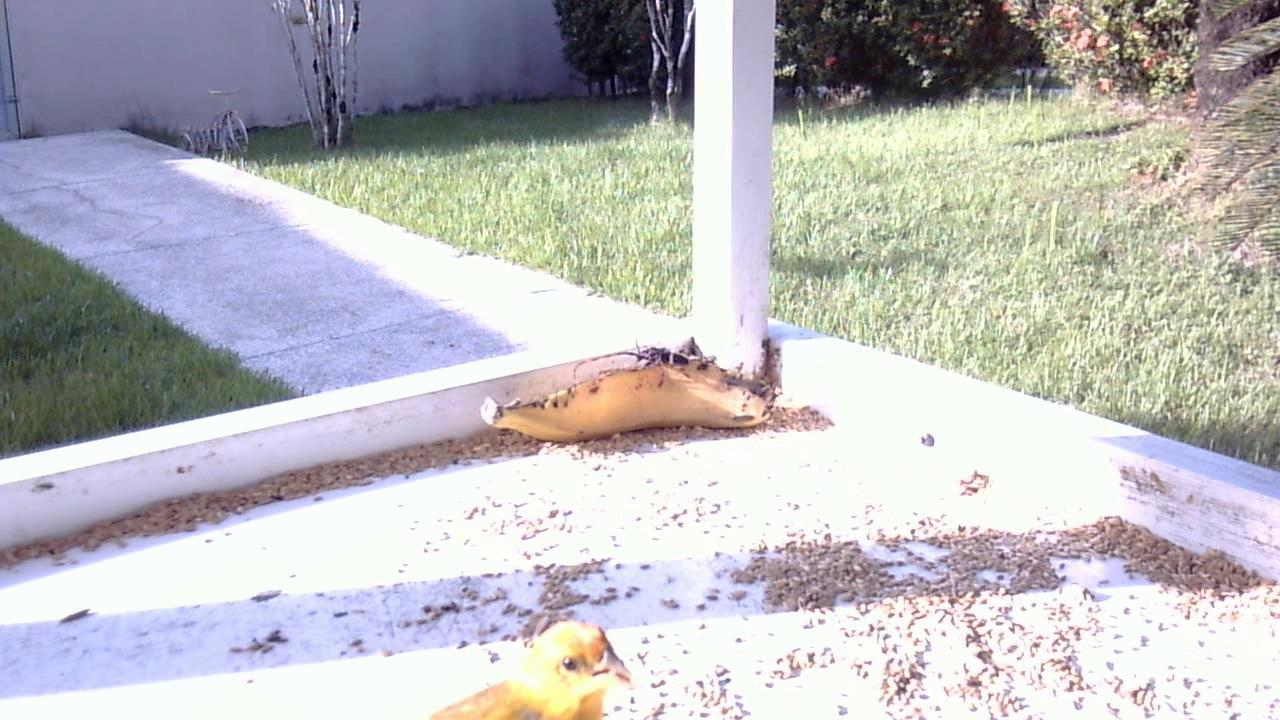canario_do_amazonas: (425, 611, 640, 720)
